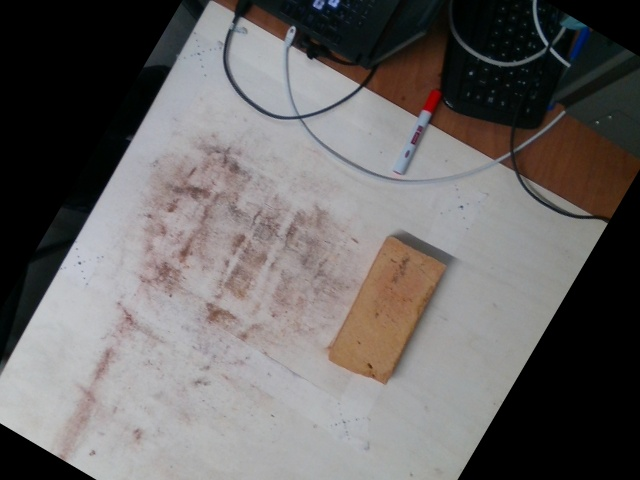brick: (330, 236, 446, 382)
